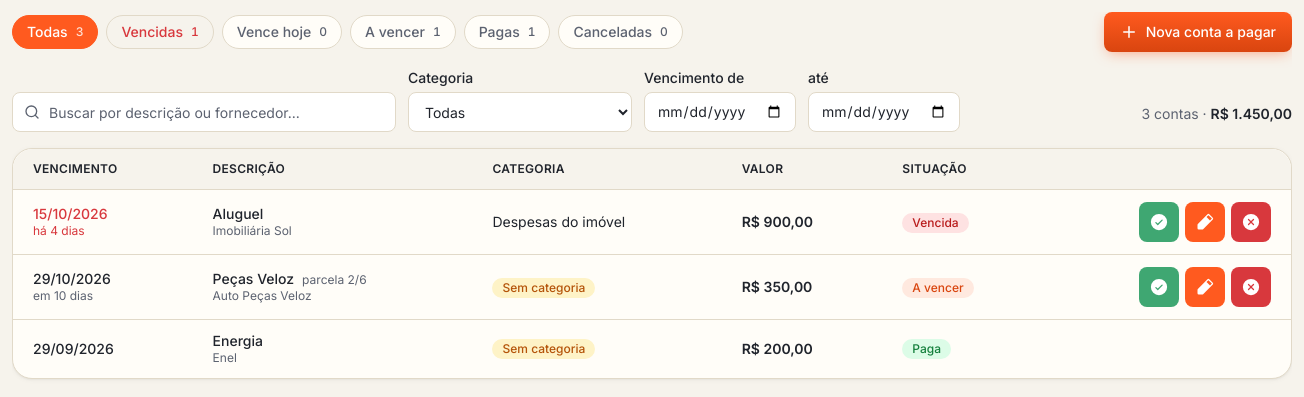
Test case: ContasTab › searches by description or counterpart
Type "enel" into the field with placeholder "Buscar por descrição ou fornecedor..." at (204, 112), box [12,92,396,132]
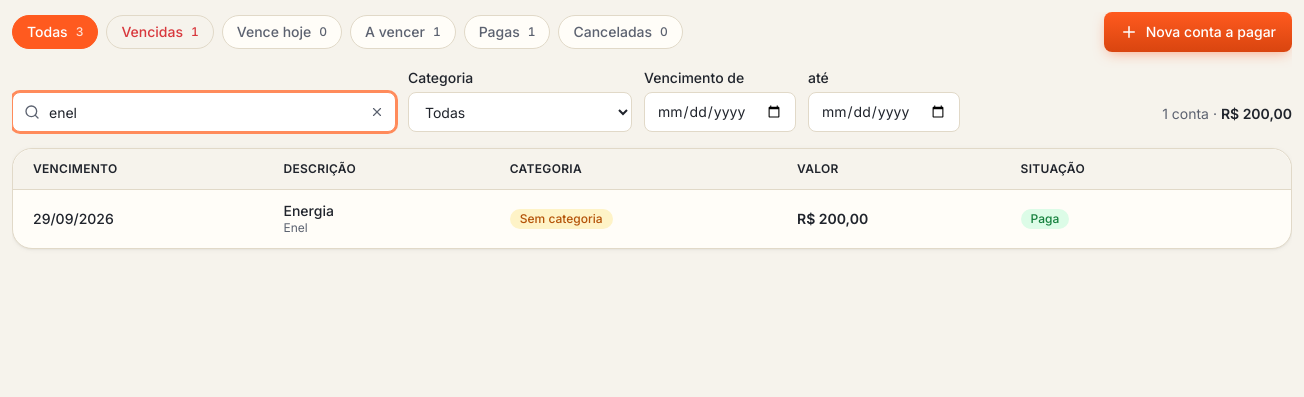
Expected: the text "Energia" is shown, [284,202,334,219]
Expected: the text "Aluguel" is gone
